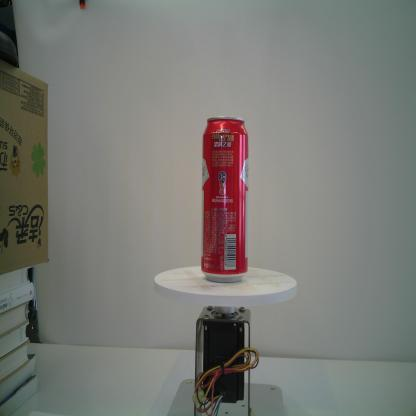Alcohol: (200, 116, 250, 284)
